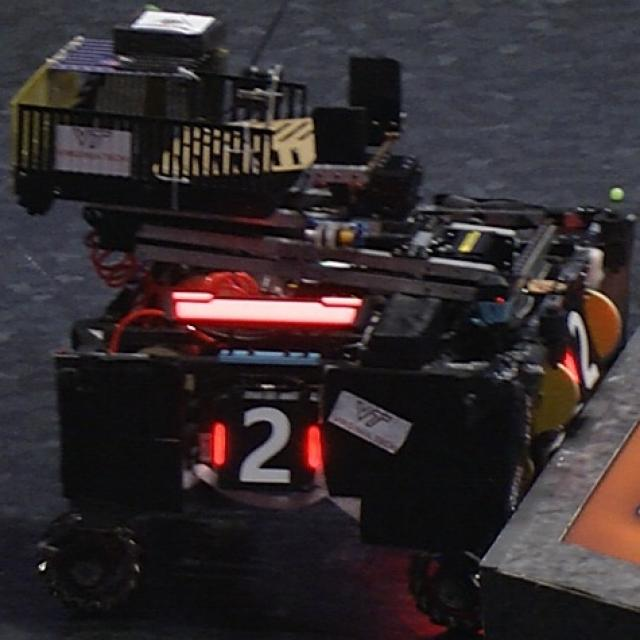R2: (210, 406, 324, 486)
